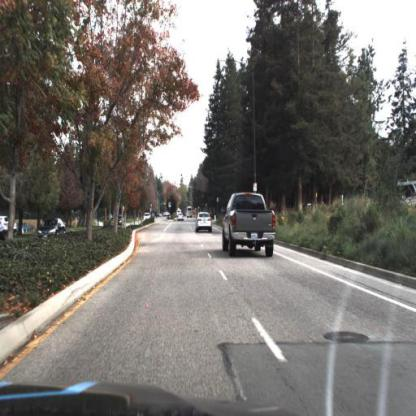car: (224, 190, 279, 259), (36, 218, 66, 238), (196, 208, 215, 236), (111, 213, 126, 230)
